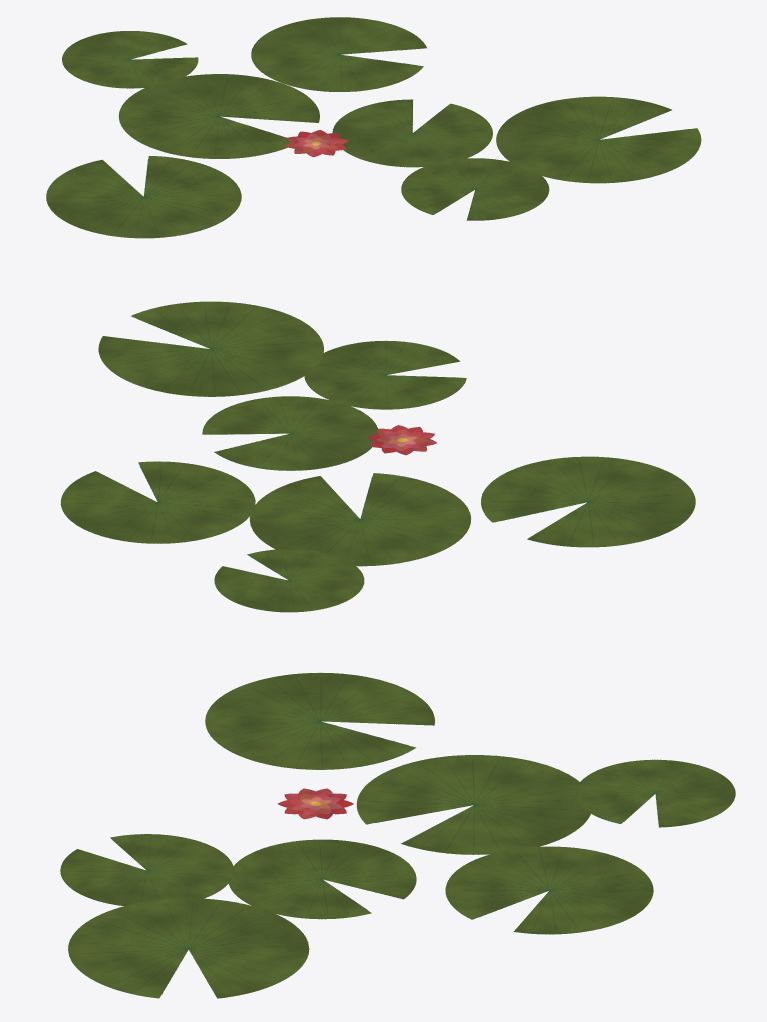
The model's file is WaterLily_1_LOD1.gltf.
3 views of the same model, one above another, from view 1: azimuth 30°, elevation 25°; view 2: azimuth 150°, elevation 25°; view 3: azimuth 270°, elevation 25° (orthographic). The views are drawn at different scales.
Visible parts, largest first — view 1: WaterLily_1_LOD1; view 2: WaterLily_1_LOD1; view 3: WaterLily_1_LOD1.
Part boxes in pixels (bbox=[...]): WaterLily_1_LOD1: bbox=[46, 17, 701, 238]; WaterLily_1_LOD1: bbox=[60, 301, 695, 612]; WaterLily_1_LOD1: bbox=[60, 672, 735, 998].
Bounding box in the file's own units: 1.03 × 0.0257 × 0.9129.
2 materials, 2 textured.
